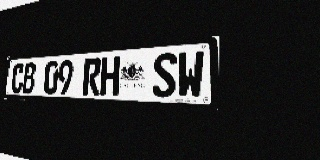0: (43, 61, 59, 94)
9: (57, 60, 74, 95)
B: (22, 62, 36, 94)
C: (11, 63, 24, 93)
H: (100, 56, 120, 96)
R: (82, 58, 101, 96)
S: (152, 52, 177, 98)
W: (177, 50, 204, 99)
